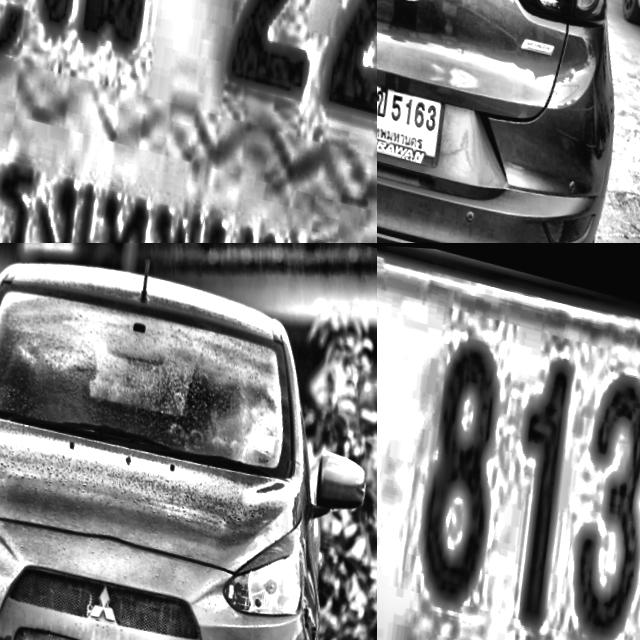license-plate: (377, 243, 640, 640), (0, 0, 377, 243), (377, 65, 445, 175)
